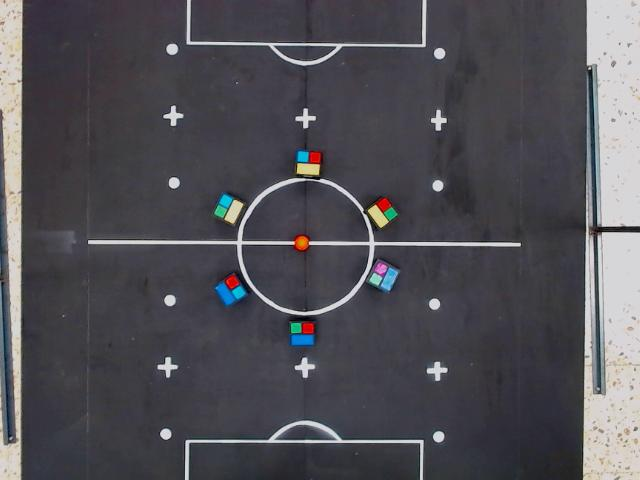robot: (365, 256, 403, 296), (212, 271, 251, 309), (210, 190, 247, 228), (364, 195, 401, 231), (293, 149, 325, 179), (287, 319, 317, 348)
